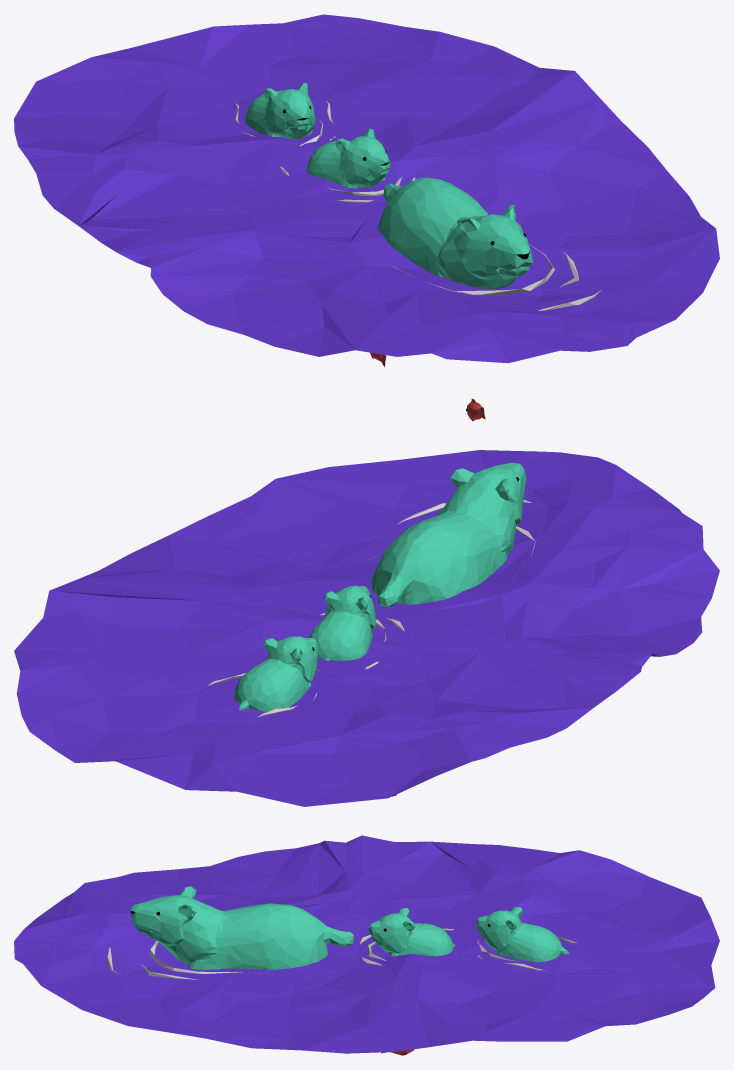
3 renders of one model, top to bottom at view 1: azimuth 30°, elevation 25°; view 2: azimuth 150°, elevation 25°; view 3: azimuth 270°, elevation 25°, orthographic. The views are drawn at different scales.
Parts seen in each view (by area): view 1: WATER_1, M_B1_1; view 2: WATER_1, M_B1_1; view 3: WATER_1, M_B1_1.
Boxes of the visible parts, bbox=[...] form: WATER_1: bbox=[14, 14, 719, 363]; M_B1_1: bbox=[245, 82, 532, 288]; WATER_1: bbox=[14, 450, 719, 806]; M_B1_1: bbox=[233, 462, 526, 711]; WATER_1: bbox=[14, 835, 719, 1053]; M_B1_1: bbox=[130, 886, 569, 969].
Size of the model in its own units: 280 by 109 by 401.
